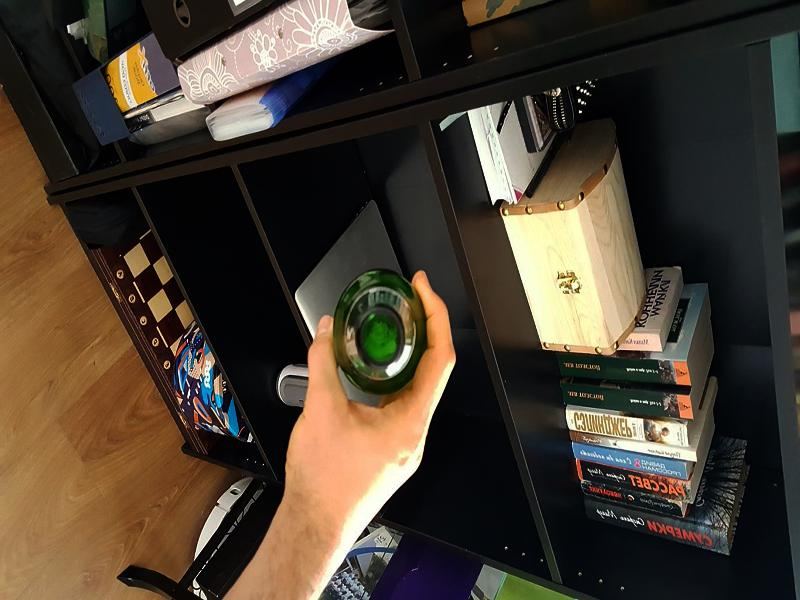Beer: (331, 276, 426, 391)
